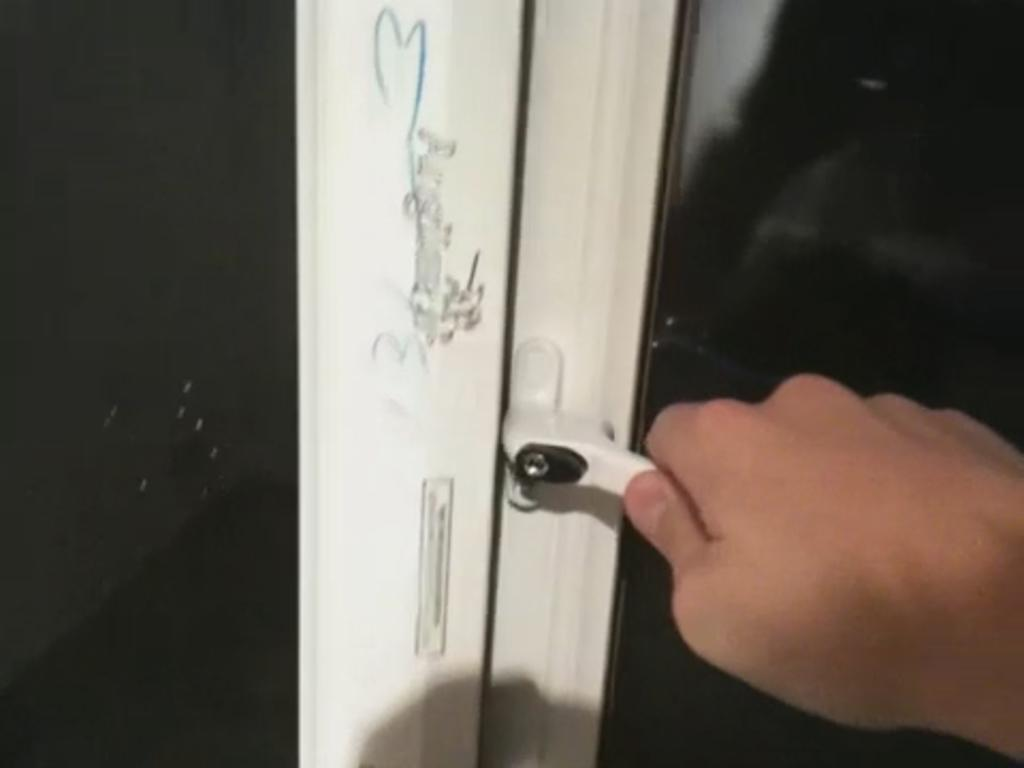handle: (510, 402, 696, 516)
